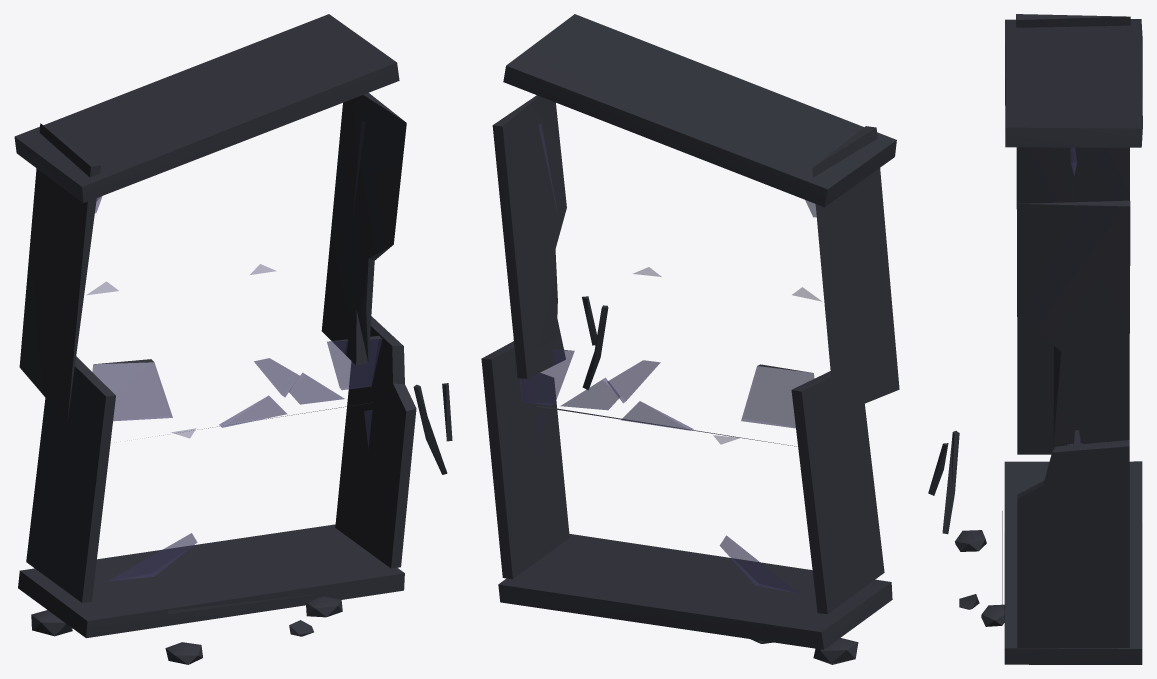
File: mrd_deb_phase_shield_b.glb
3 views of the same model, side by side, from view 1: azimuth 30°, elevation 25°; view 2: azimuth 150°, elevation 25°; view 3: azimuth 270°, elevation 25° (orthographic).
Visible parts, largest first — view 1: husk, frag_03, frag_01; view 2: husk, frag_03, frag_01; view 3: husk, frag_01, frag_03.
Boxes of the visible parts, x1,y1,x2,y2 form: husk: [18, 316, 452, 664]; frag_03: [14, 14, 399, 203]; frag_01: [19, 93, 406, 422]; husk: [481, 296, 892, 664]; frag_03: [503, 14, 896, 207]; frag_01: [492, 95, 899, 415]; husk: [928, 317, 1142, 664]; frag_01: [1016, 14, 1130, 444]; frag_03: [1005, 19, 1142, 147].
Size of the model in its own units: 0.8809 by 1.27 by 0.4577.
